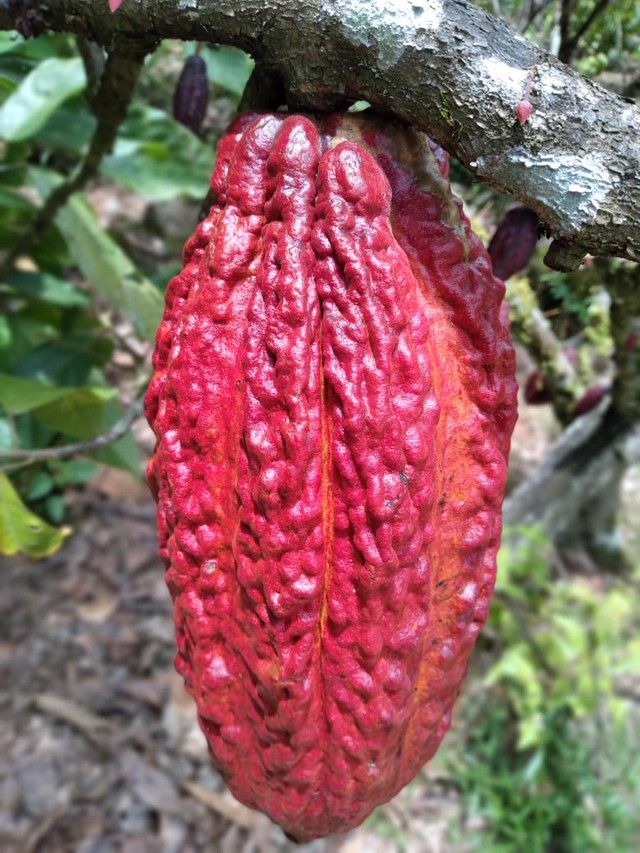Health: (139, 93, 520, 844)
